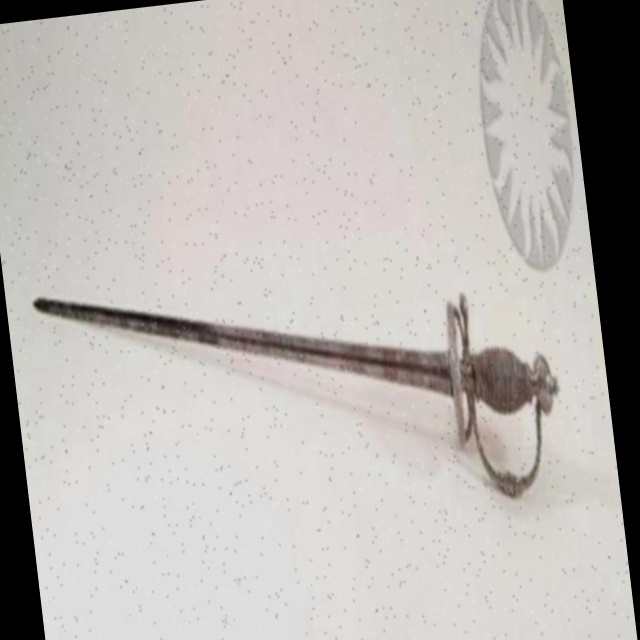Sharp-Object: (26, 235, 509, 496)
